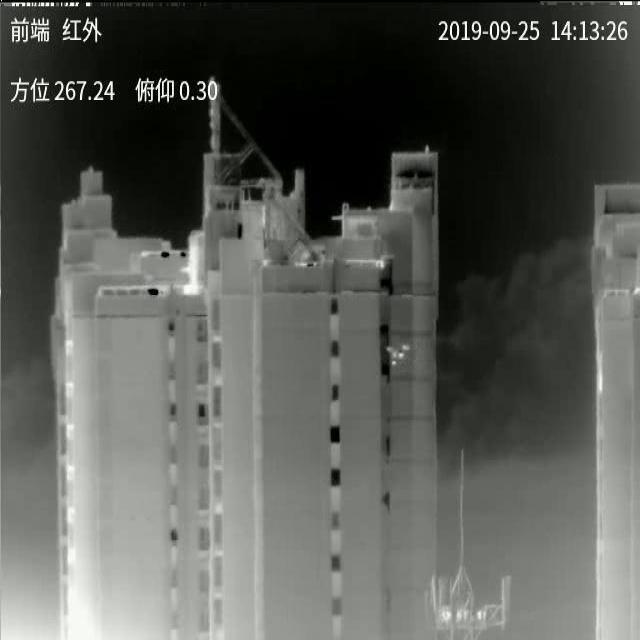drone: (385, 345, 410, 366)
